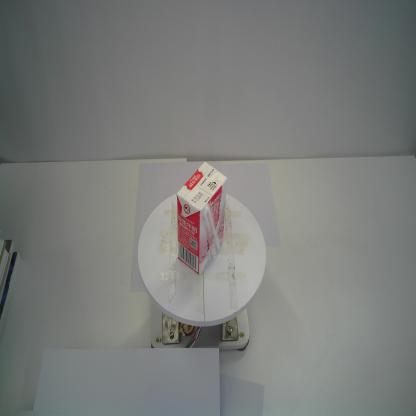Milk: (175, 159, 229, 277)
